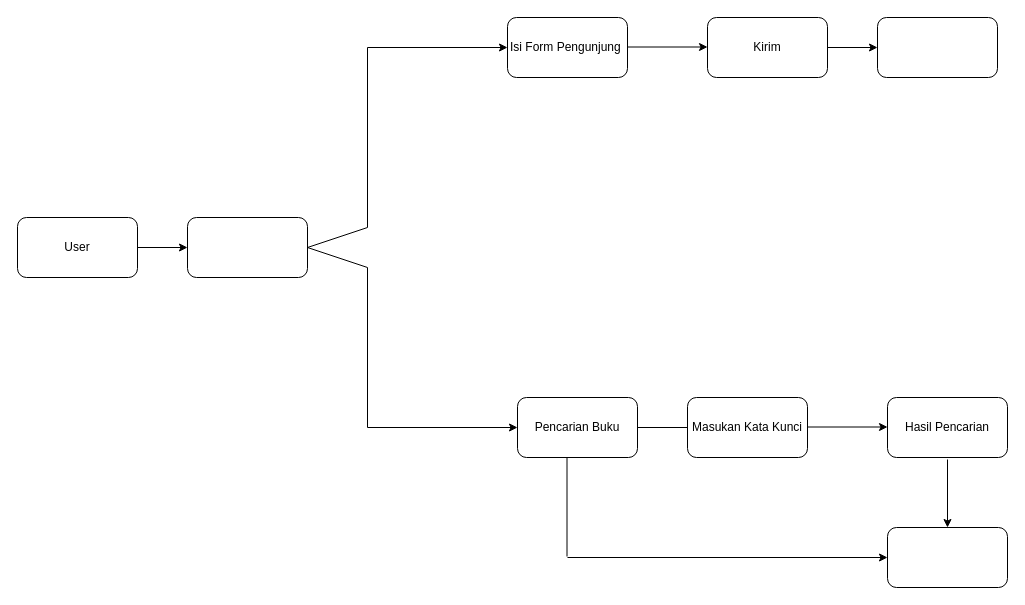
This 1025x605 diagram has some shape labels left out. The shapes that lost their labels are listed below. From the top down, each one's centre as x and y in pixels, then its label:
At point 937,47: "Daftar Pengunjung".
At point 247,247: "Mengunjungi Perpustakaan".
At point 947,557: "Lihat Rincian Buku".
